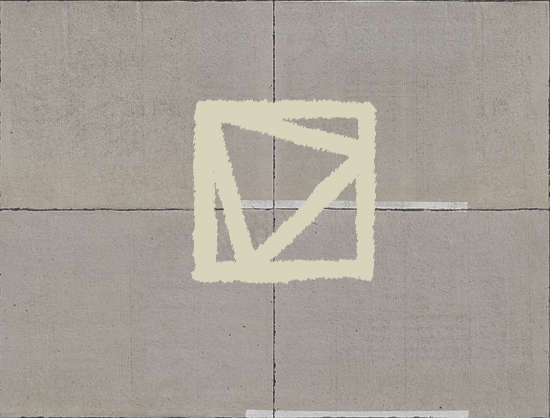marker: (186, 95, 382, 287)
